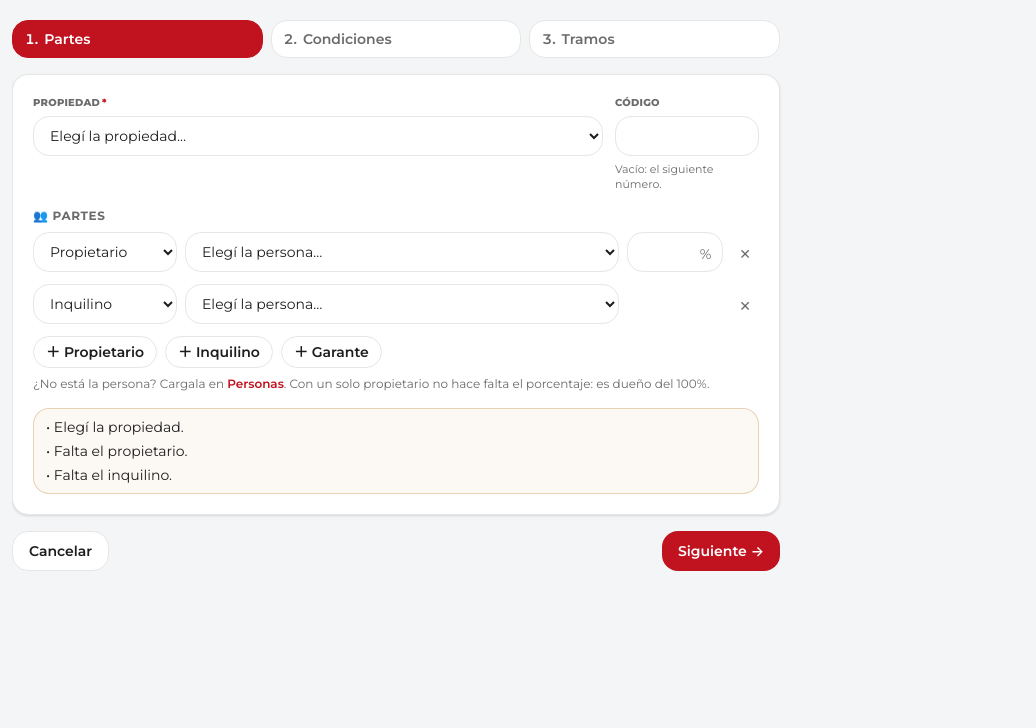
ContratoForm — alta en tres pasos › sin tramos lo dice una vez, en castellano, sin el mensaje de Zod
Select "Calle 123 2° A · Rosario" in the dropdown labelled "Propiedad*" at {"x": 318, "y": 136}, box left=33, top=116, right=603, bottom=156
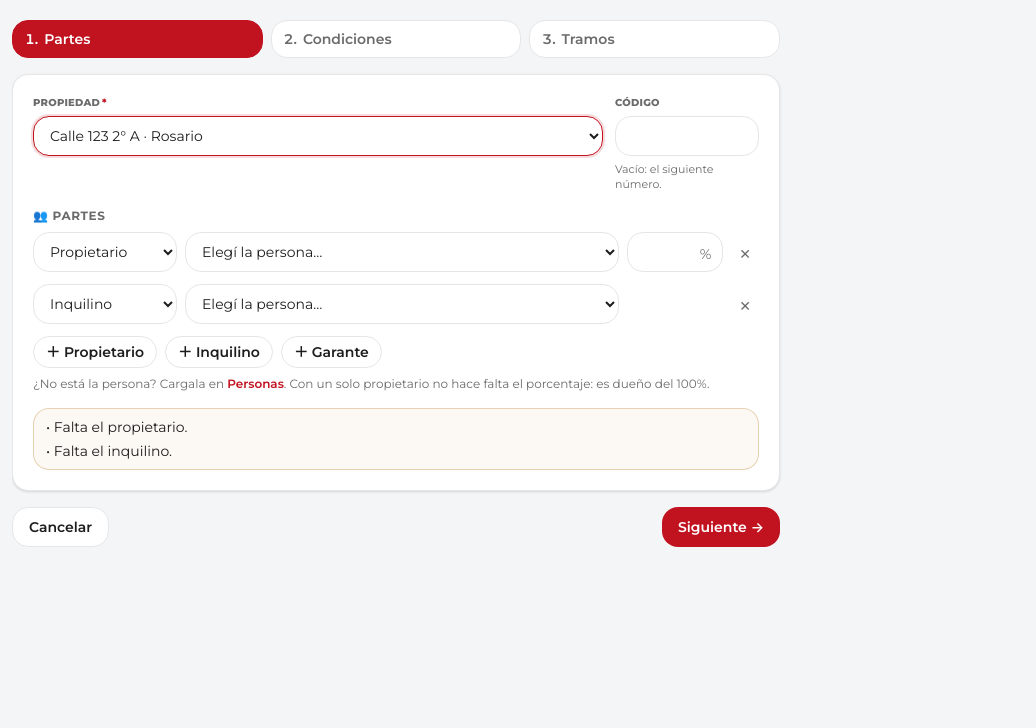
Select "Dueño Uno" in the dropdown named "Persona (propietario)" at {"x": 402, "y": 252}, box left=185, top=232, right=619, bottom=272
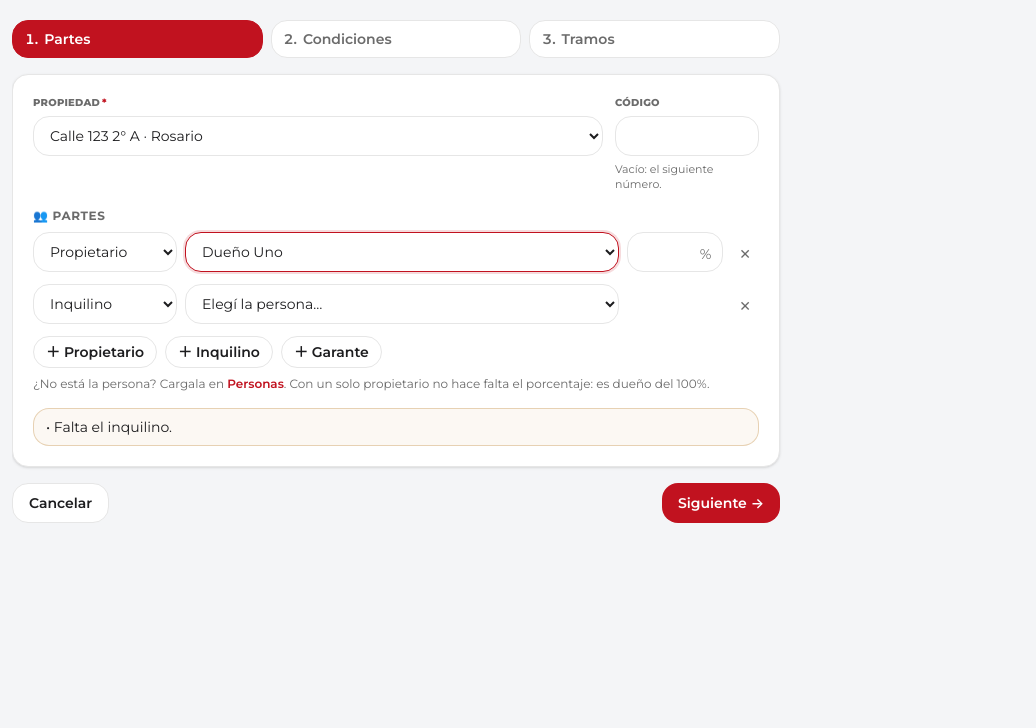
Select "Inquilina Dos" in the dropdown named "Persona (inquilino)" at {"x": 402, "y": 304}, box left=185, top=284, right=619, bottom=324
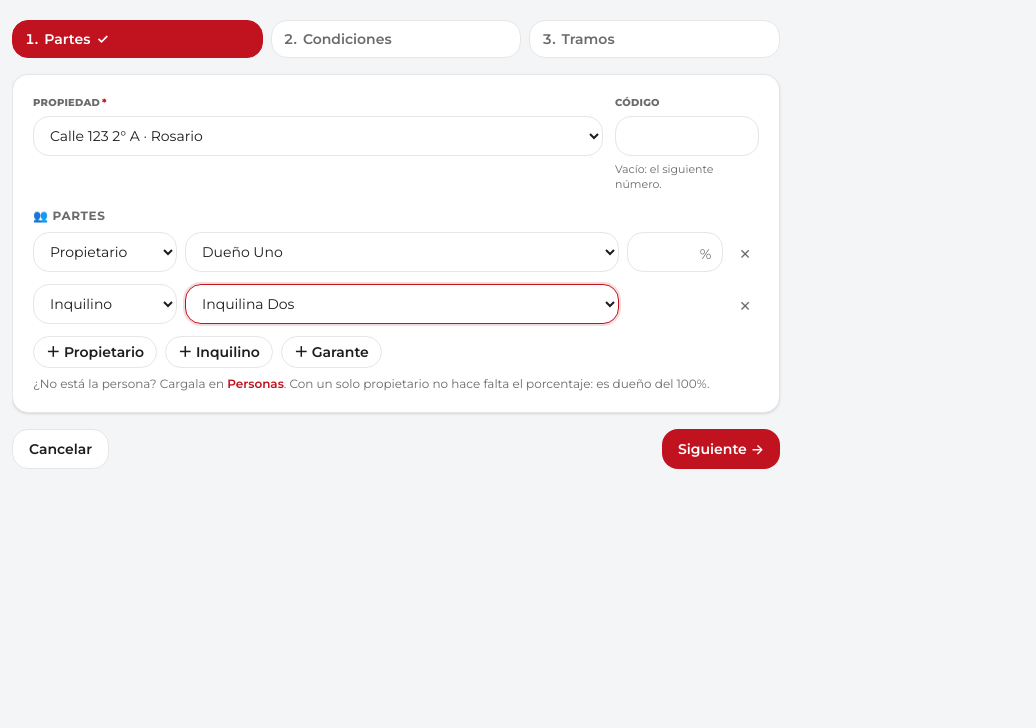
Click the button "Siguiente →" at {"x": 721, "y": 449}, box left=662, top=429, right=780, bottom=469
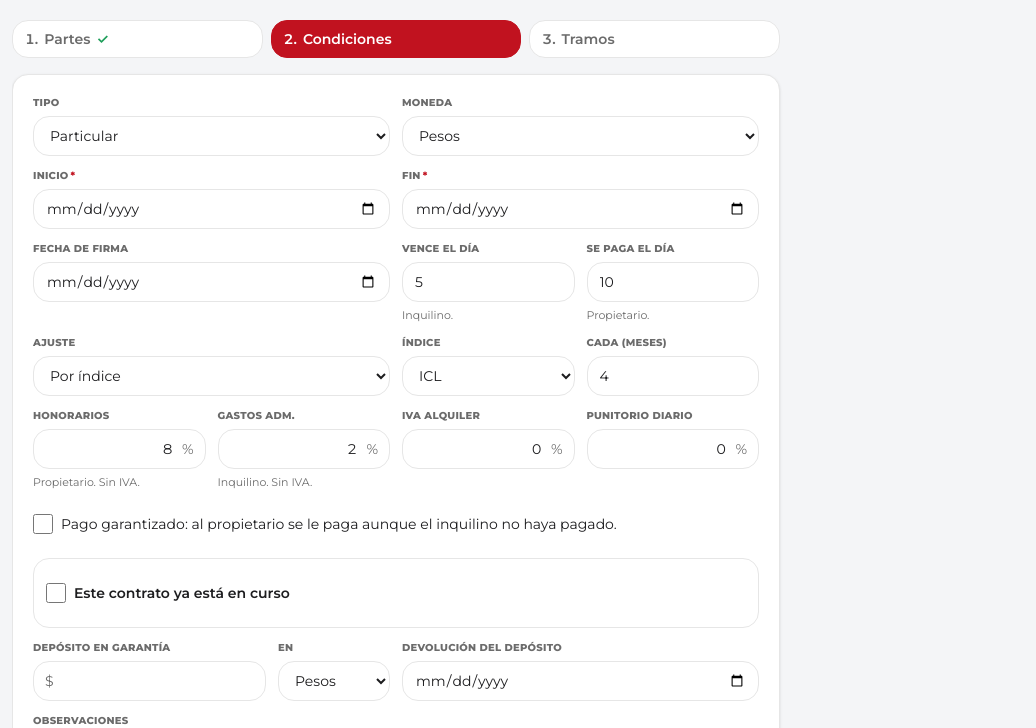
Type "2026-01-01" into the date field labelled "Inicio*" at {"x": 212, "y": 209}, box left=33, top=189, right=390, bottom=229
Type "2026-12-31" into the date field labelled "Fin*" at {"x": 580, "y": 209}, box left=402, top=189, right=759, bottom=229
(page scrolled)
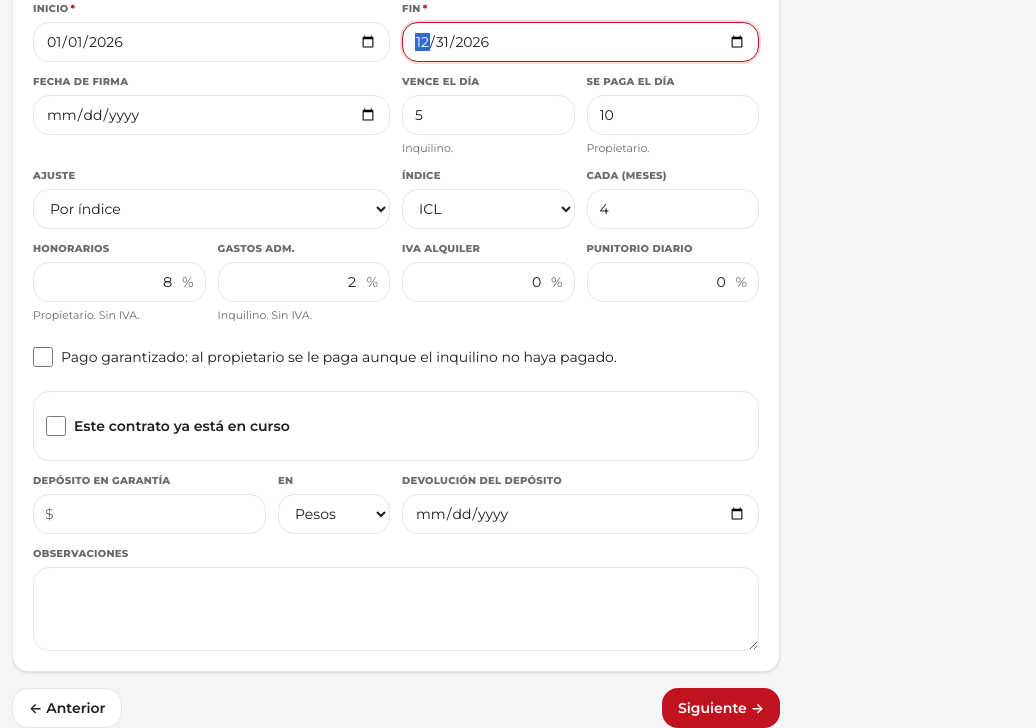
Click the button "Siguiente →" at {"x": 721, "y": 708}, box left=662, top=688, right=780, bottom=727
(page scrolled)
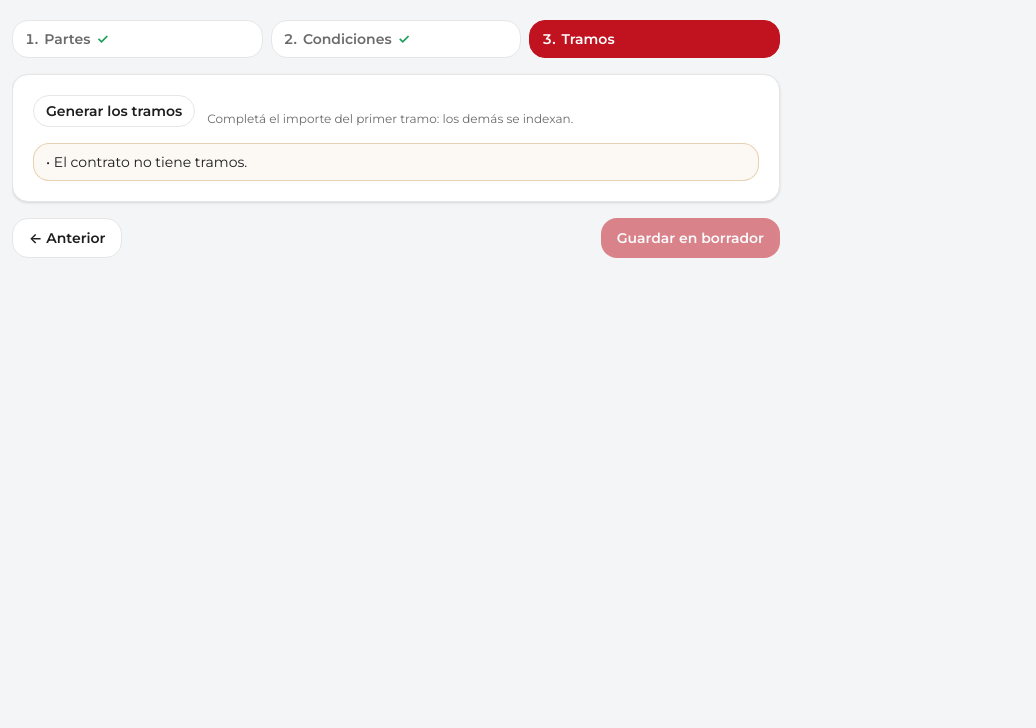
Expected: the number of list items "• El contrato no tiene tramos." is 1, left=46, top=153, right=247, bottom=171
